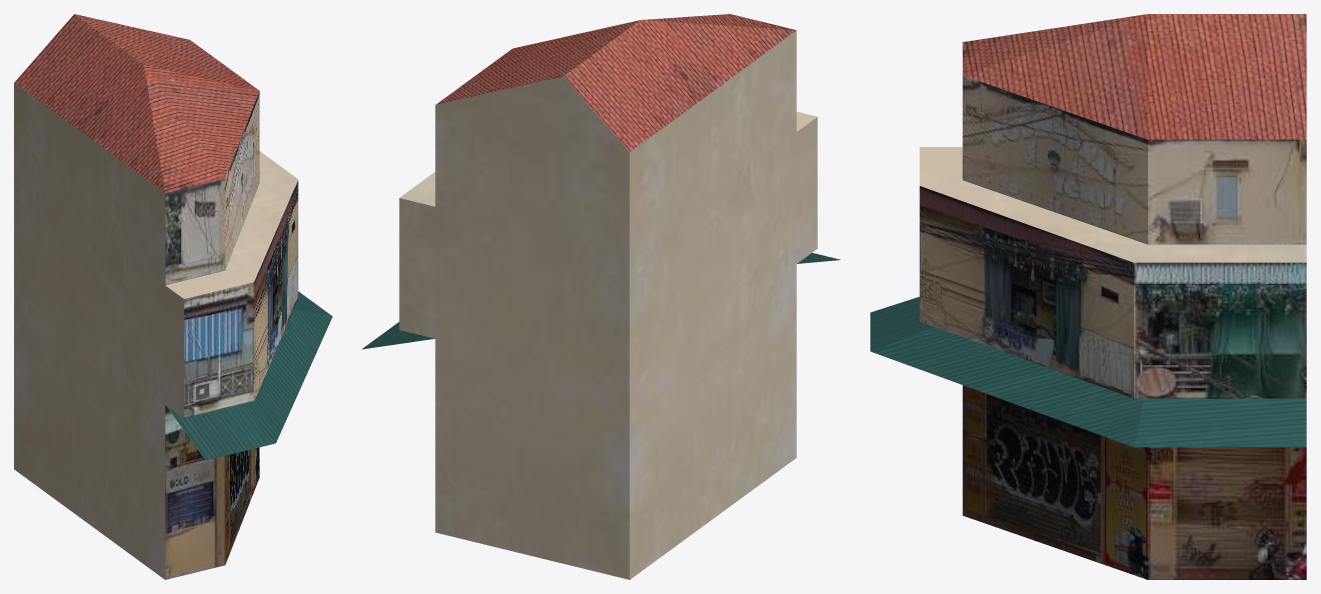
3 renders of one model, left to right at view 1: azimuth 30°, elevation 25°; view 2: azimuth 150°, elevation 25°; view 3: azimuth 270°, elevation 25°, orthographic. The views are drawn at different scales.
Parts seen in each view (by area): view 1: HN959___Hai_San___SeaFood; view 2: HN959___Hai_San___SeaFood; view 3: HN959___Hai_San___SeaFood.
Boxes of the visible parts, <box> form: HN959___Hai_San___SeaFood: <box>14,14,332,579</box>; HN959___Hai_San___SeaFood: <box>361,14,840,579</box>; HN959___Hai_San___SeaFood: <box>870,14,1306,579</box>.
Size of the model in its own units: 7.43 by 12.88 by 10.15.
1 material, 1 textured.
